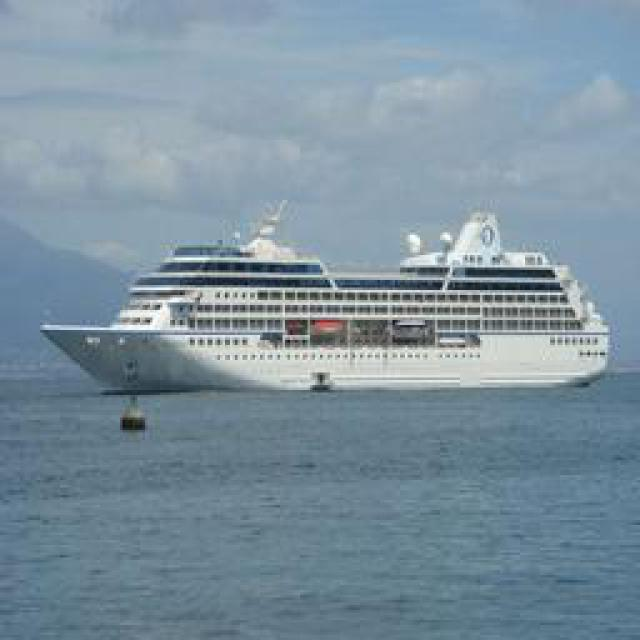Ship: (49, 195, 624, 405)
